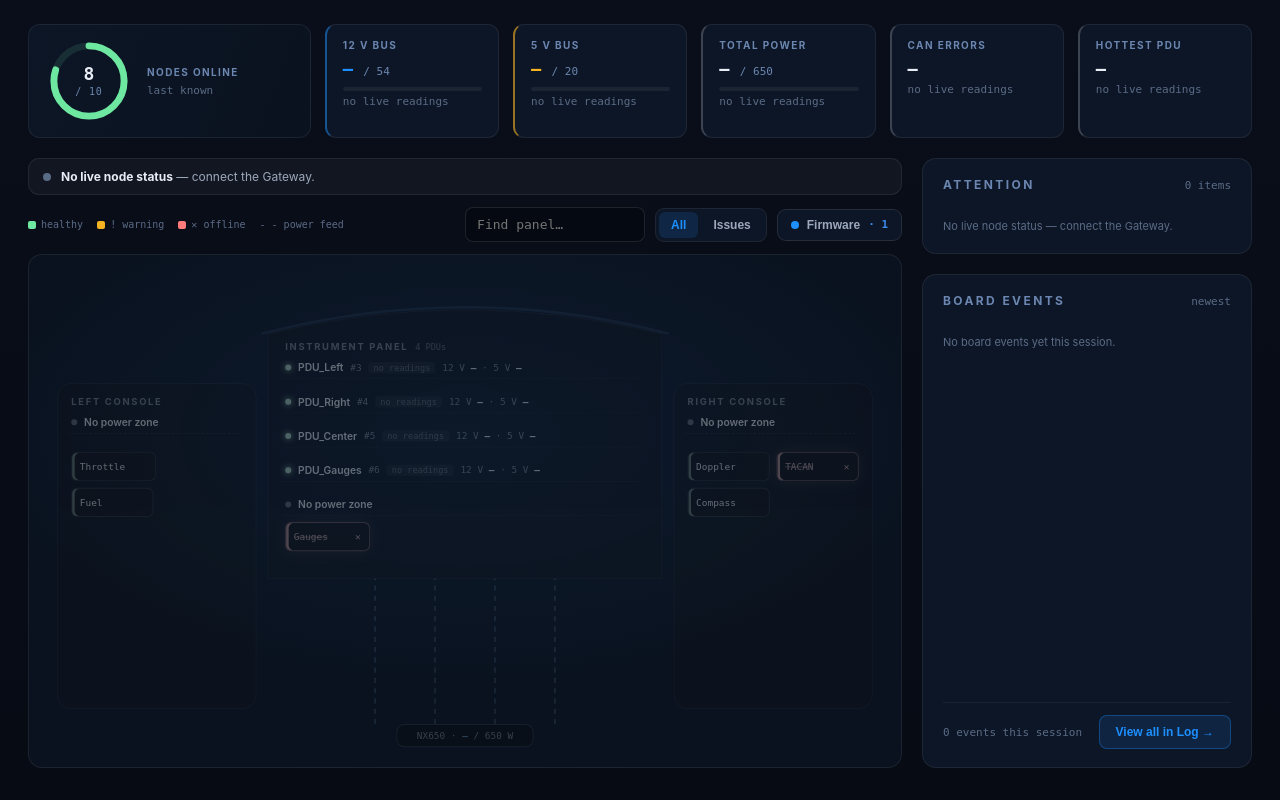
Test: T41 the Firmware button and sheet (#173) › the Gateway waiting in its update drive (link down): its row, in Needs attention, with Update
Click the button "Firmware · 1". click: (839, 224)
box: left=777, top=208, right=902, bottom=240
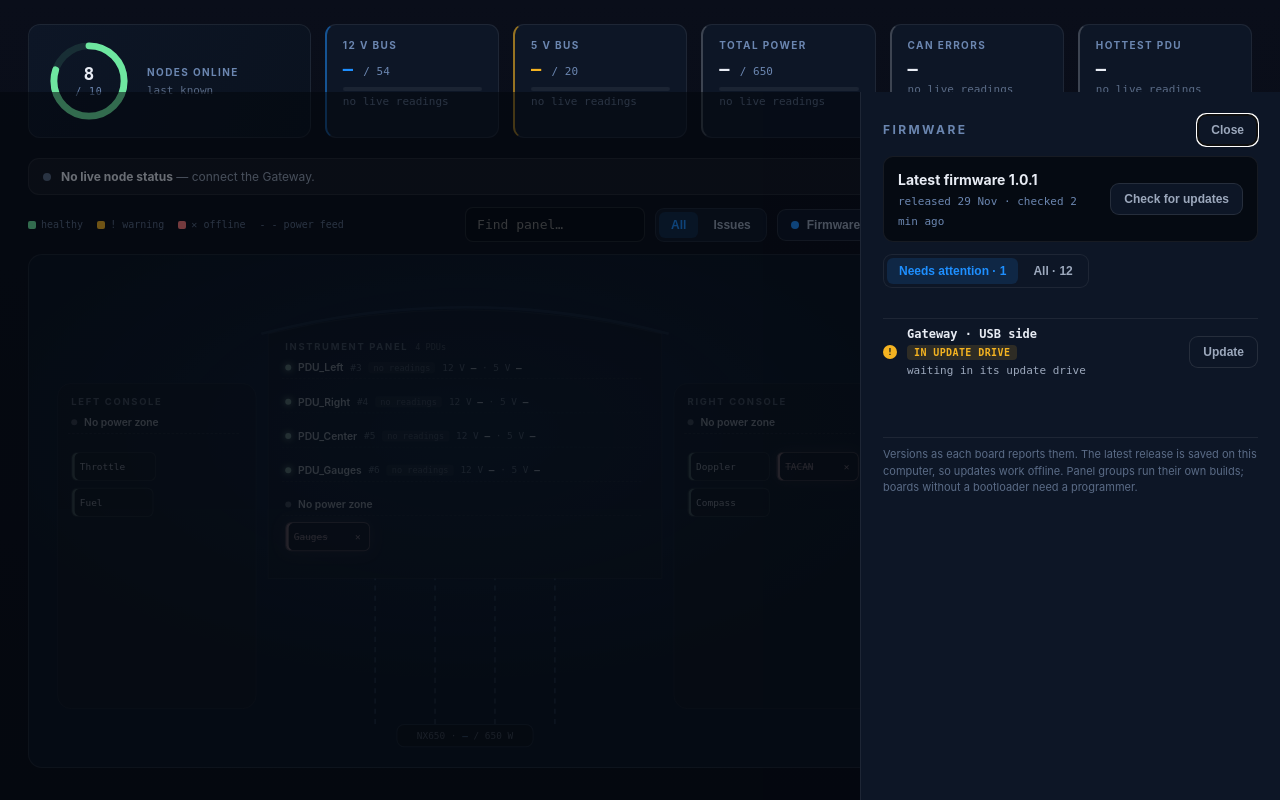
Expected: the list item reads "! Gateway · USB side IN UPDATE DRIVE waiting in its update drive Update", left=883, top=319, right=1258, bottom=385
Expected: the button "Needs attention · 1" is shown, left=887, top=258, right=1018, bottom=284
